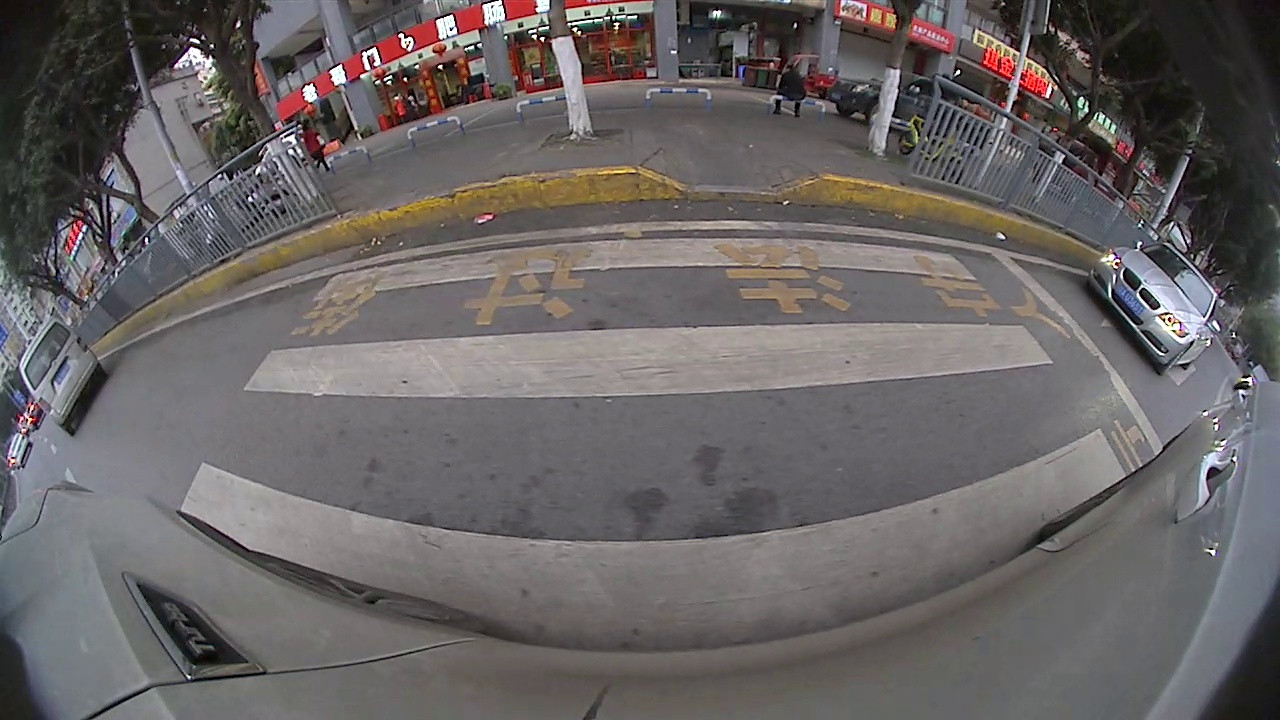car: (1082, 235, 1229, 376), (827, 66, 1010, 158), (16, 312, 109, 439)
person: (774, 57, 813, 124)
rider: (901, 109, 969, 184)
